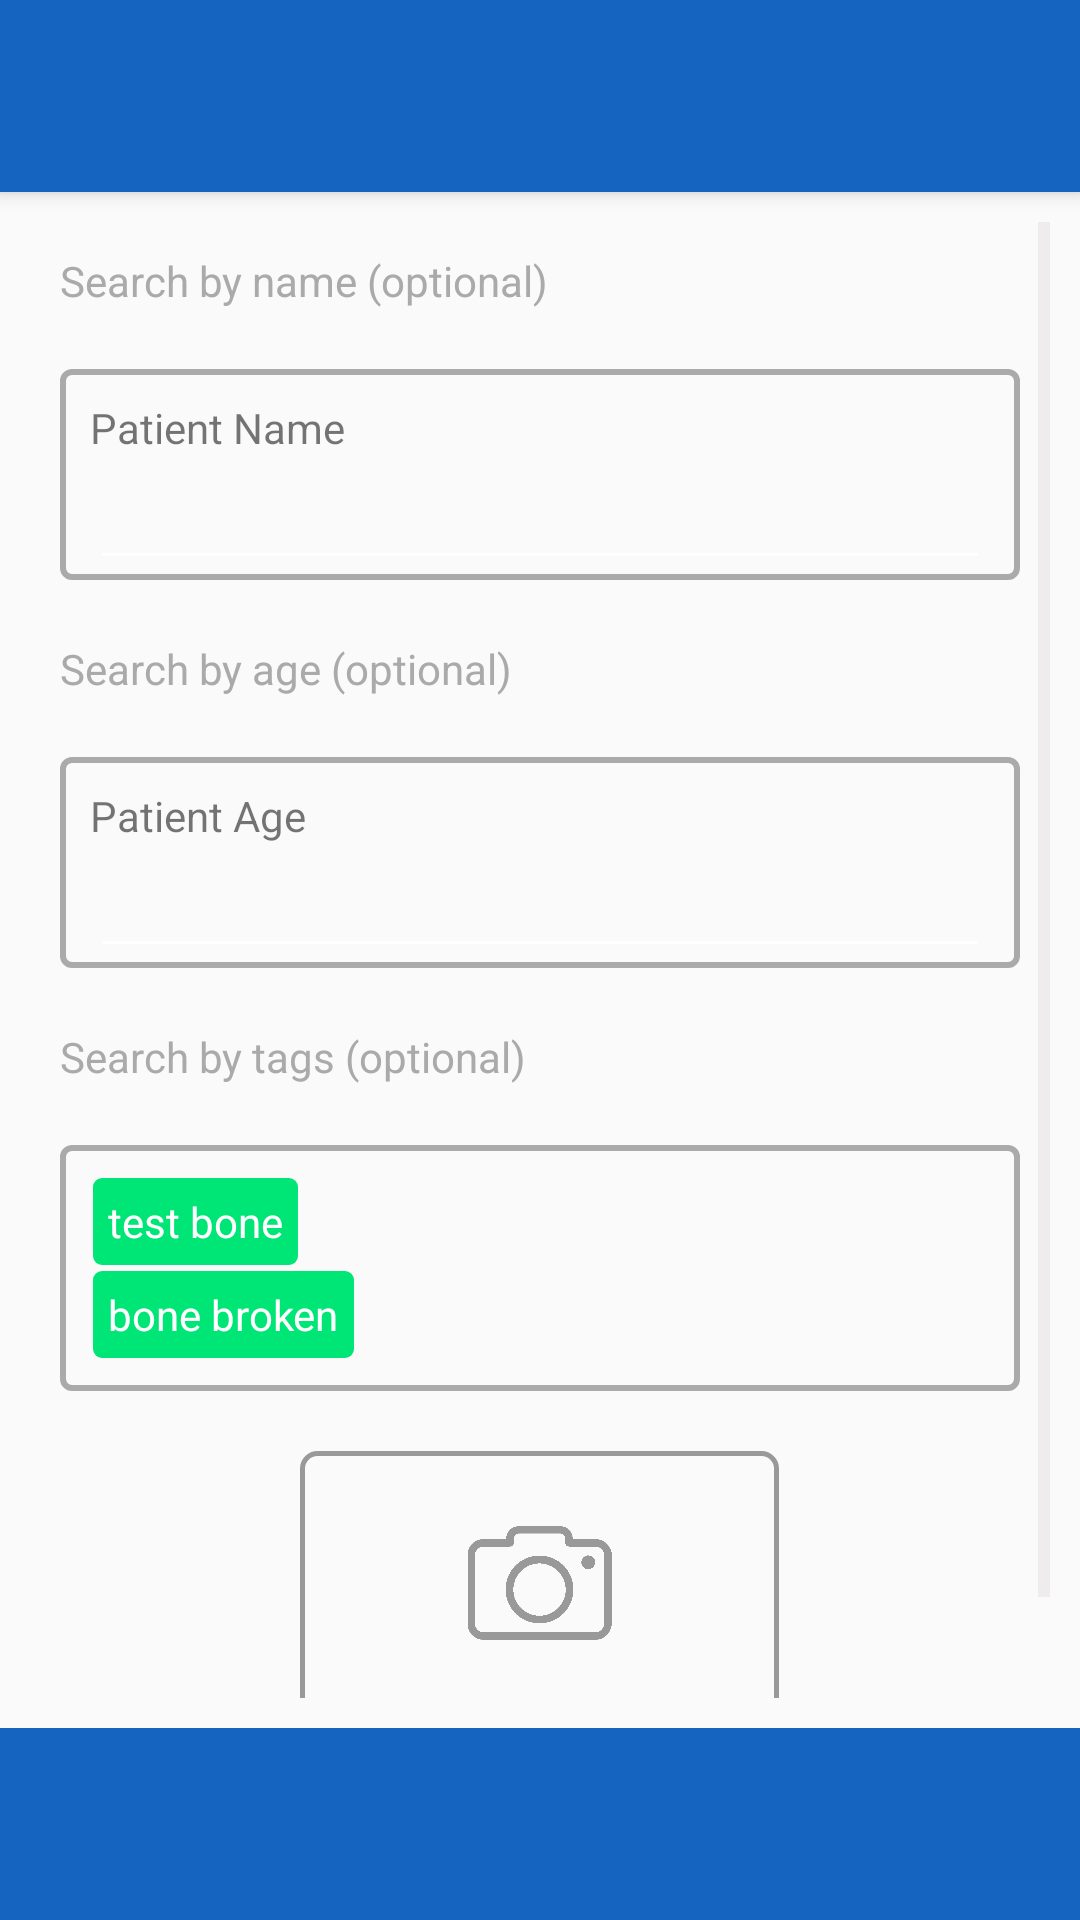

Where icons sit on this 1080x1920 app screen, as rect(x1, y1, x2, y2):
camera: rect(468, 1526, 612, 1640)
